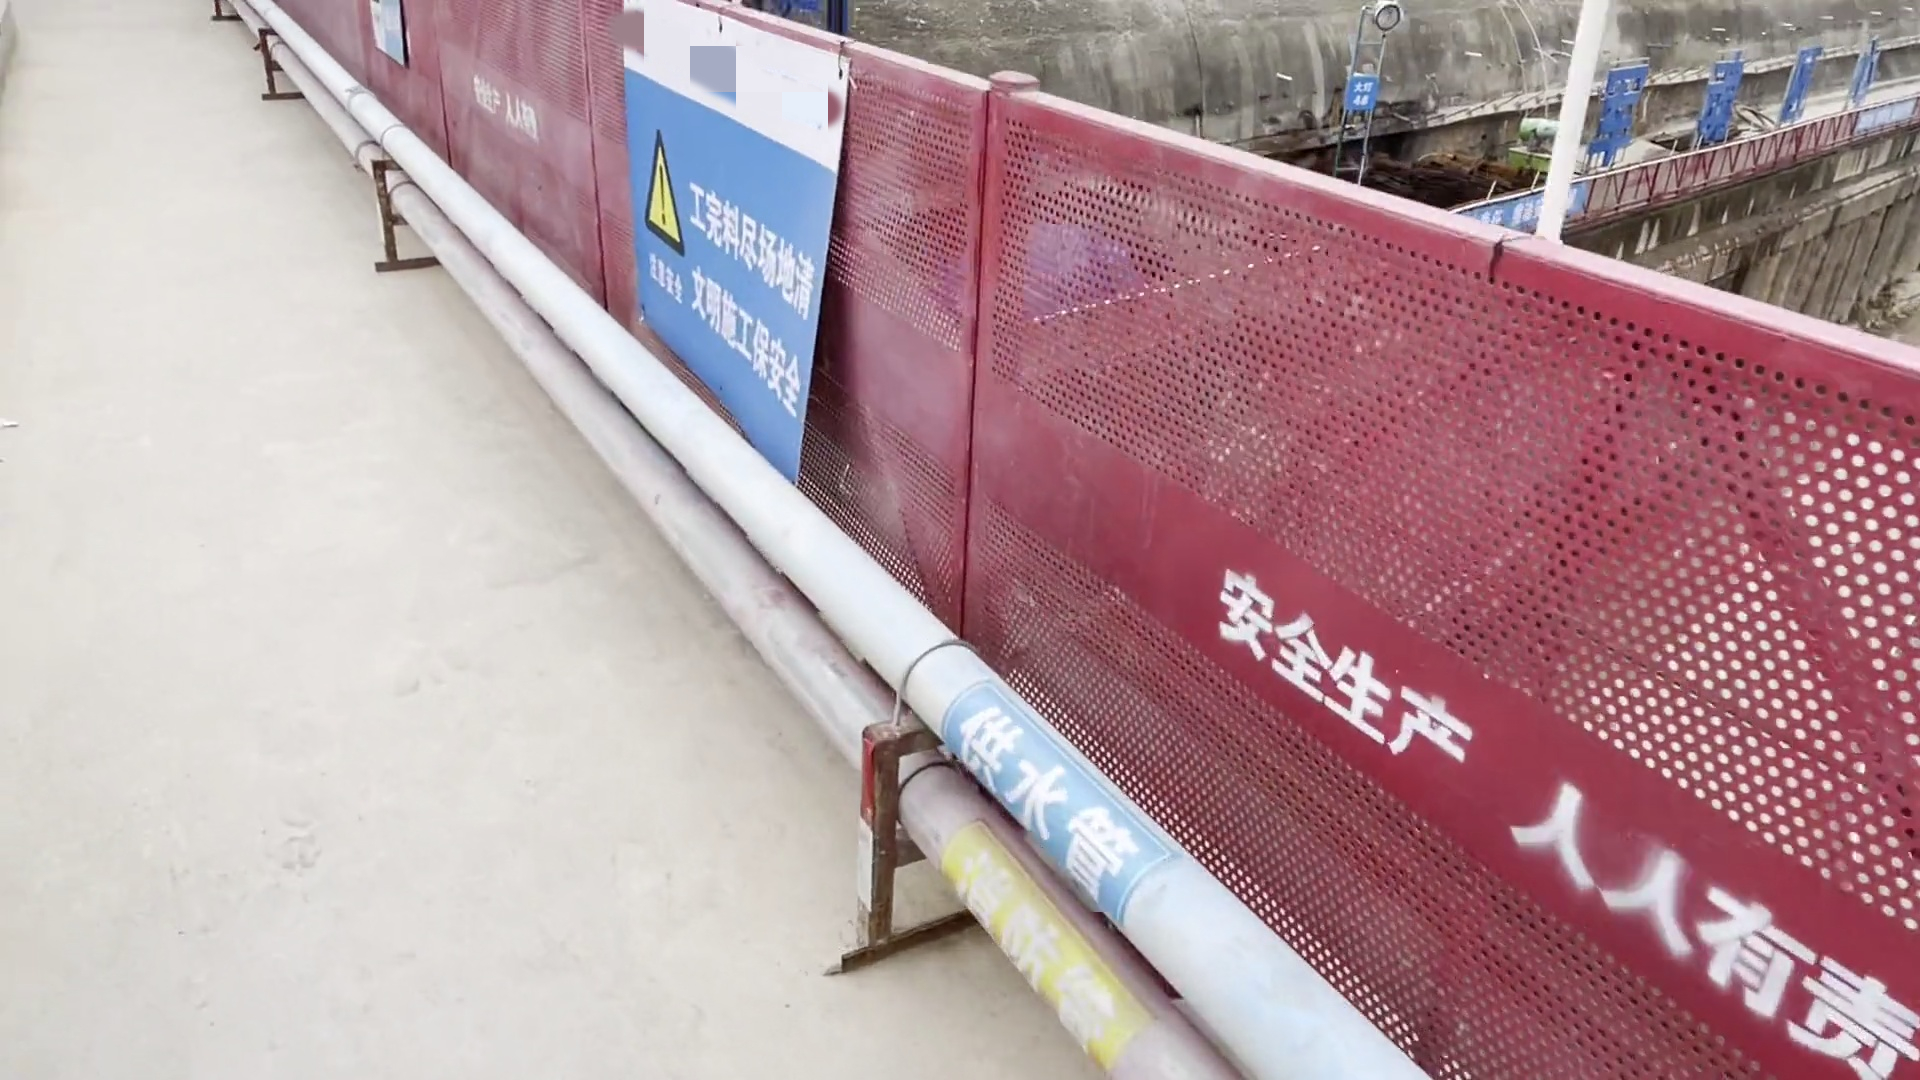fence: (911, 61, 1907, 1080)
slogan: (604, 4, 860, 502)
